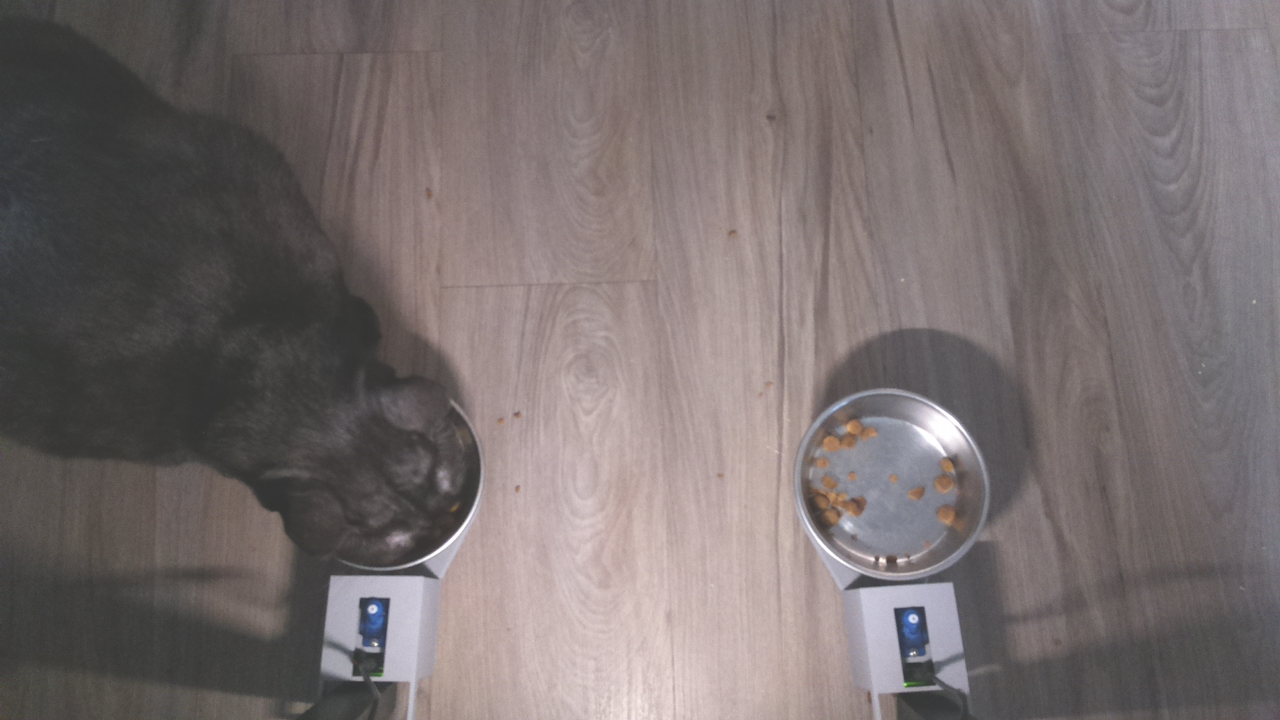open_bowl: (792, 386, 995, 584)
saki_eating: (236, 330, 511, 584)
